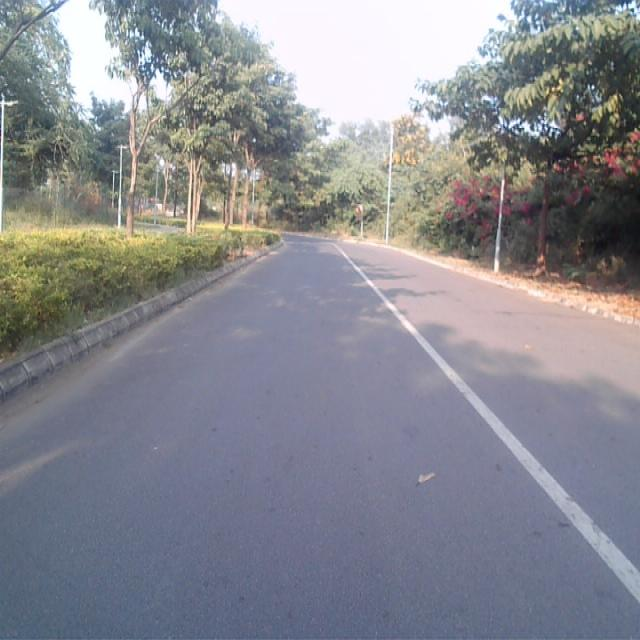lane: (0, 246, 640, 640)
